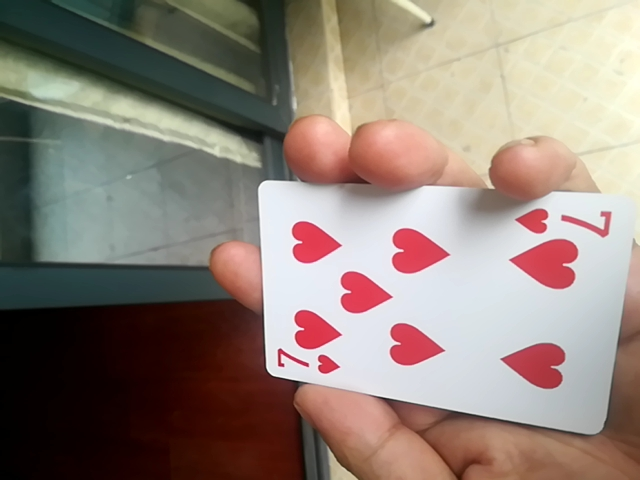hx 7: (254, 175, 632, 437)
